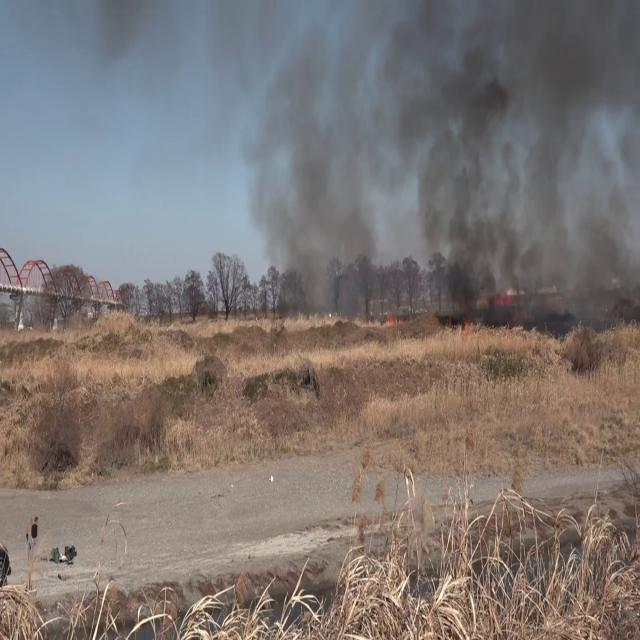Smoke: (391, 0, 640, 331), (242, 6, 396, 315)
